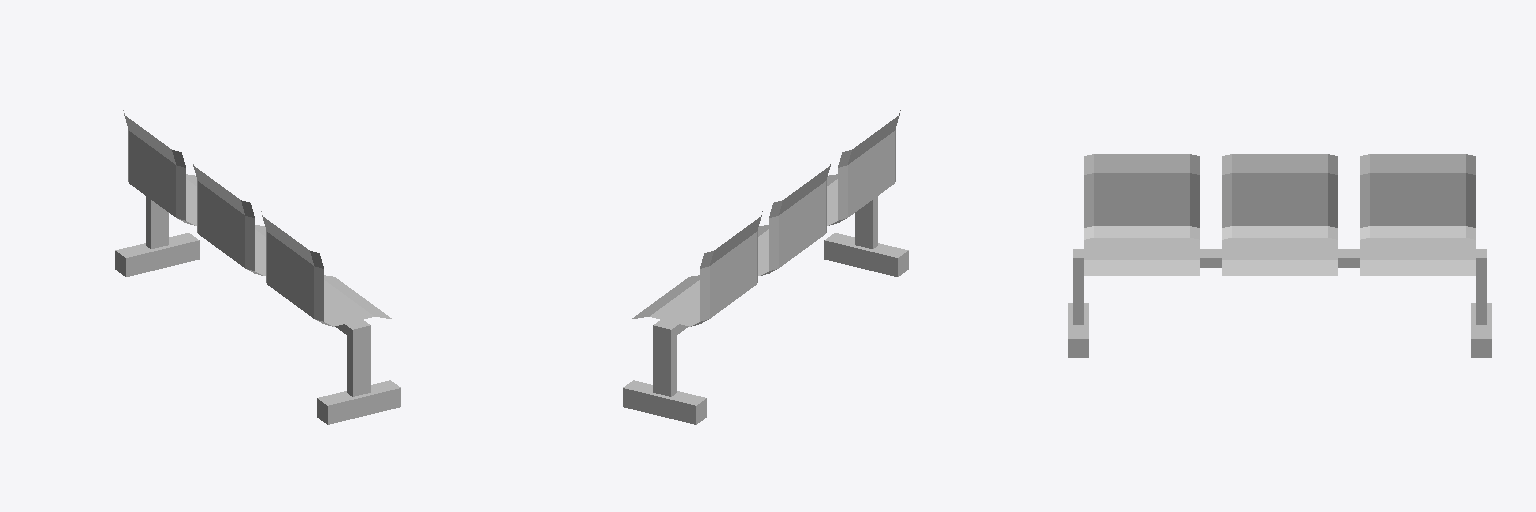
Rendered from trainbench.obj.
3 views of the same model, side by side, from view 1: azimuth 30°, elevation 25°; view 2: azimuth 150°, elevation 25°; view 3: azimuth 270°, elevation 25° (orthographic).
Visible parts, largest first — view 1: bitnch; view 2: bitnch; view 3: bitnch.
Part boxes in pixels (x1,y1,x2,y2): bitnch: (115, 110, 400, 424); bitnch: (623, 110, 908, 424); bitnch: (1068, 154, 1491, 357).
Bounding box in the file's own units: 17 × 34.5 × 80.